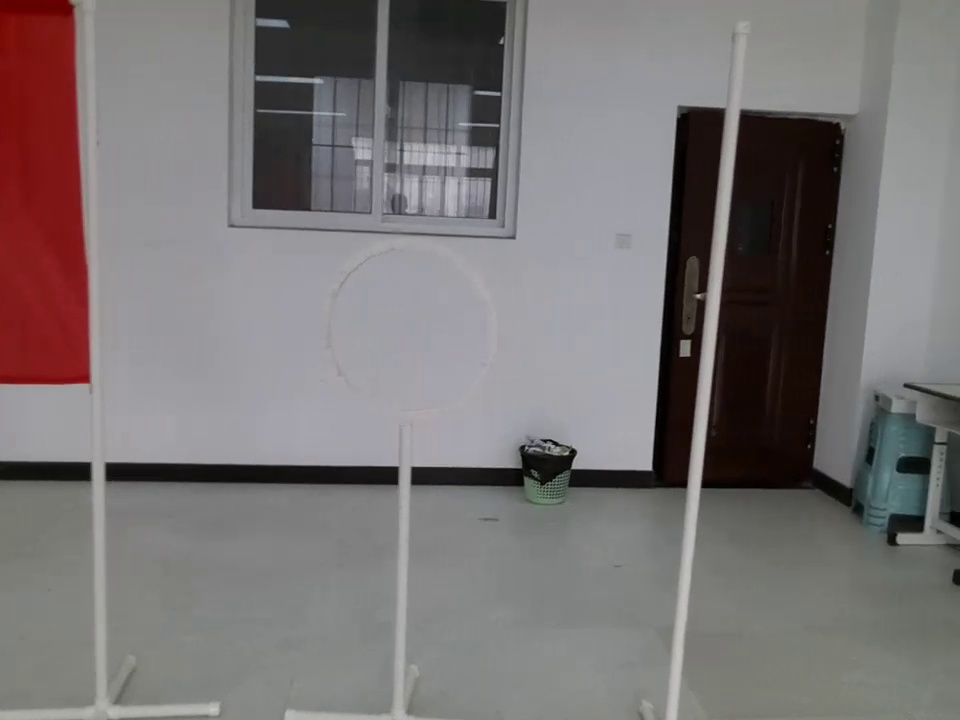gan: (663, 14, 756, 715)
qi: (1, 1, 106, 409)
quan: (309, 230, 503, 435)
